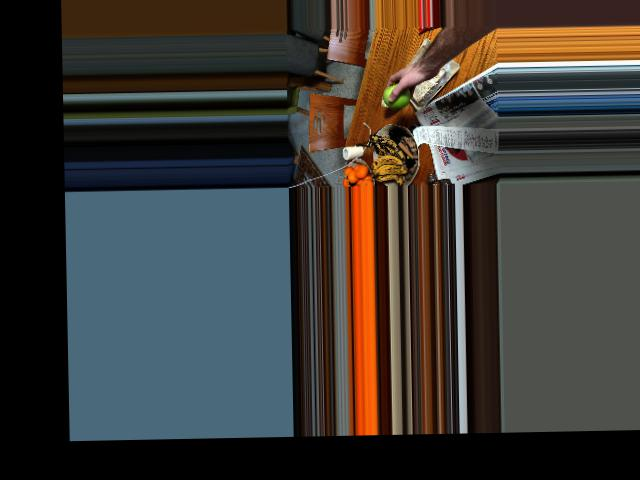apple: (383, 81, 410, 109)
